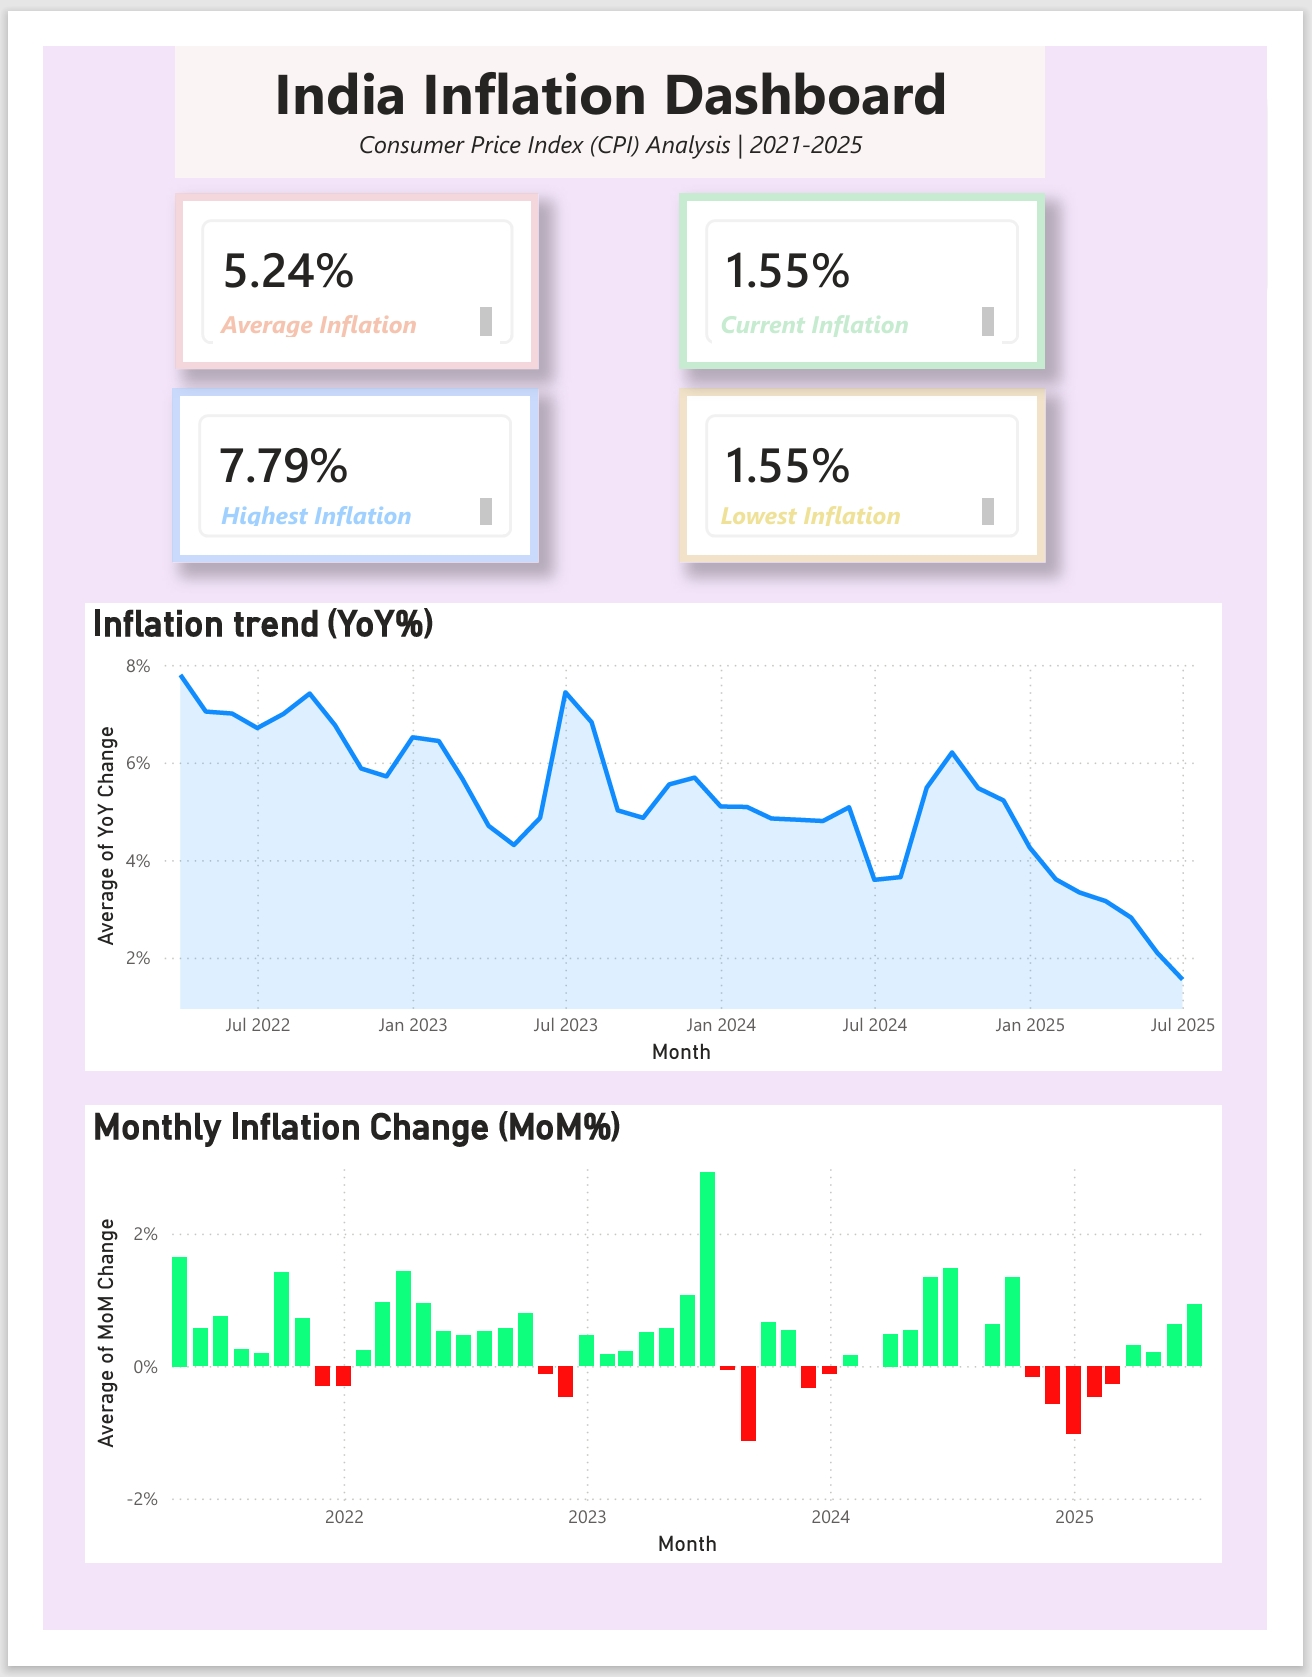

What the dashboard file says about the page in this screenshot:
{"tool":"powerbi","page":{"name":"Page 1","canvas":[816,1056],"ordinal":0},"visuals":[{"type":"lineChart","title":"Inflation trend (YoY%)","fields":{"Y":["Avg(Sheet1.YoY Change)"],"Category":["Sheet1.Month"]},"box":[27.5,371.2,758.8,311.2],"z":0},{"type":"cardVisual","fields":{"Data":["Avg(Sheet1.YoY Change)"]},"box":[87.5,97.5,242.5,117.5],"z":1000},{"type":"cardVisual","fields":{"Data":["Max(Sheet1.YoY Change)"]},"box":[86.2,227.5,243.8,116.2],"z":2000},{"type":"cardVisual","fields":{"Data":["Min(Sheet1.YoY Change)"]},"box":[423.8,227.5,243.8,116.2],"z":3000},{"type":"cardVisual","fields":{"Data":["Min(Sheet1.YoY Change)"]},"box":[423.8,97.5,243.8,117.5],"z":4000},{"type":"clusteredColumnChart","title":"Monthly Inflation Change (MoM%)","fields":{"Y":["Avg(Sheet1.MoM Change)"],"Category":["Sheet1.Month"]},"box":[27.5,706.2,758.8,305],"z":5000},{"type":"textbox","box":[87.5,0,580,87.5],"z":6000},{"type":"textbox","box":[112.5,168.8,191.2,28.8],"z":7000},{"type":"textbox","box":[446.2,168.8,192.5,28.8],"z":8000},{"type":"textbox","box":[112.5,296.2,191.2,27.5],"z":9000},{"type":"textbox","box":[446.2,296.2,192.5,27.5],"z":10000}]}

Visuals, with their boxes in screenshot pixels (x1, y1, x2, y2), scaled from the page's 816x1056 canvas onto the 1312x1677 screenshot:
"Inflation trend (YoY%)" lineChart: (44, 589, 1264, 1084)
cardVisual - Avg(Sheet1.YoY Change): (141, 155, 531, 341)
cardVisual - Max(Sheet1.YoY Change): (139, 361, 531, 546)
cardVisual - Min(Sheet1.YoY Change): (681, 361, 1073, 546)
cardVisual - Min(Sheet1.YoY Change): (681, 155, 1073, 341)
"Monthly Inflation Change (MoM%)" clusteredColumnChart: (44, 1121, 1264, 1606)
textbox: (141, 0, 1073, 139)
textbox: (181, 268, 488, 314)
textbox: (717, 268, 1027, 314)
textbox: (181, 470, 488, 514)
textbox: (717, 470, 1027, 514)
